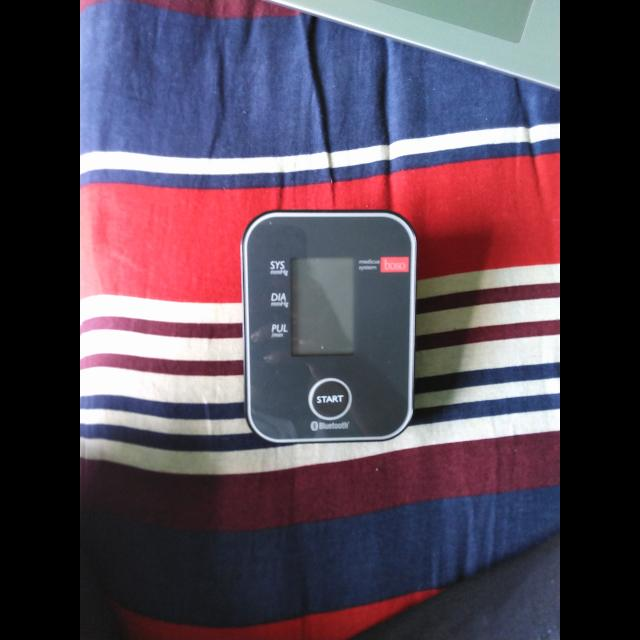Blood-Pressure-Monitor: (243, 201, 412, 447)
